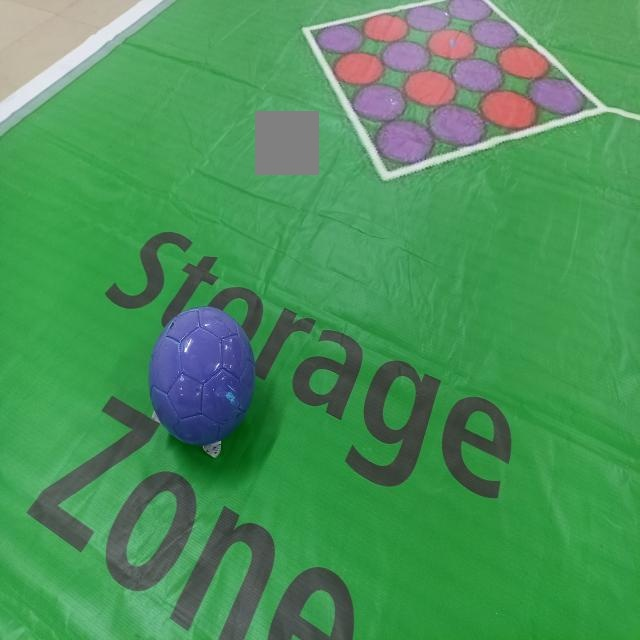purple_ball: (146, 304, 260, 462)
